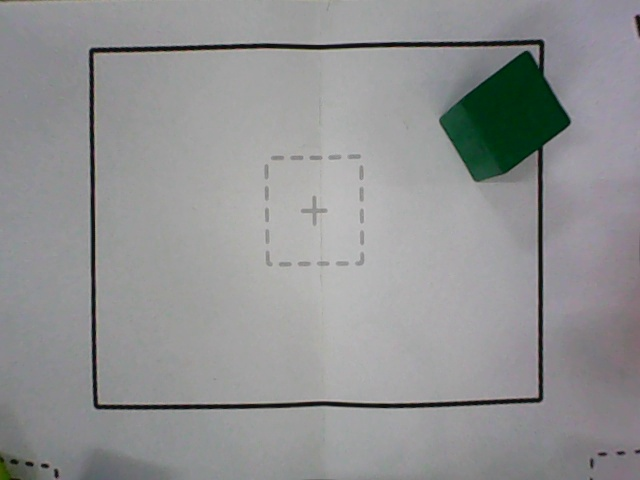upside of small cube: (461, 50, 574, 172)
